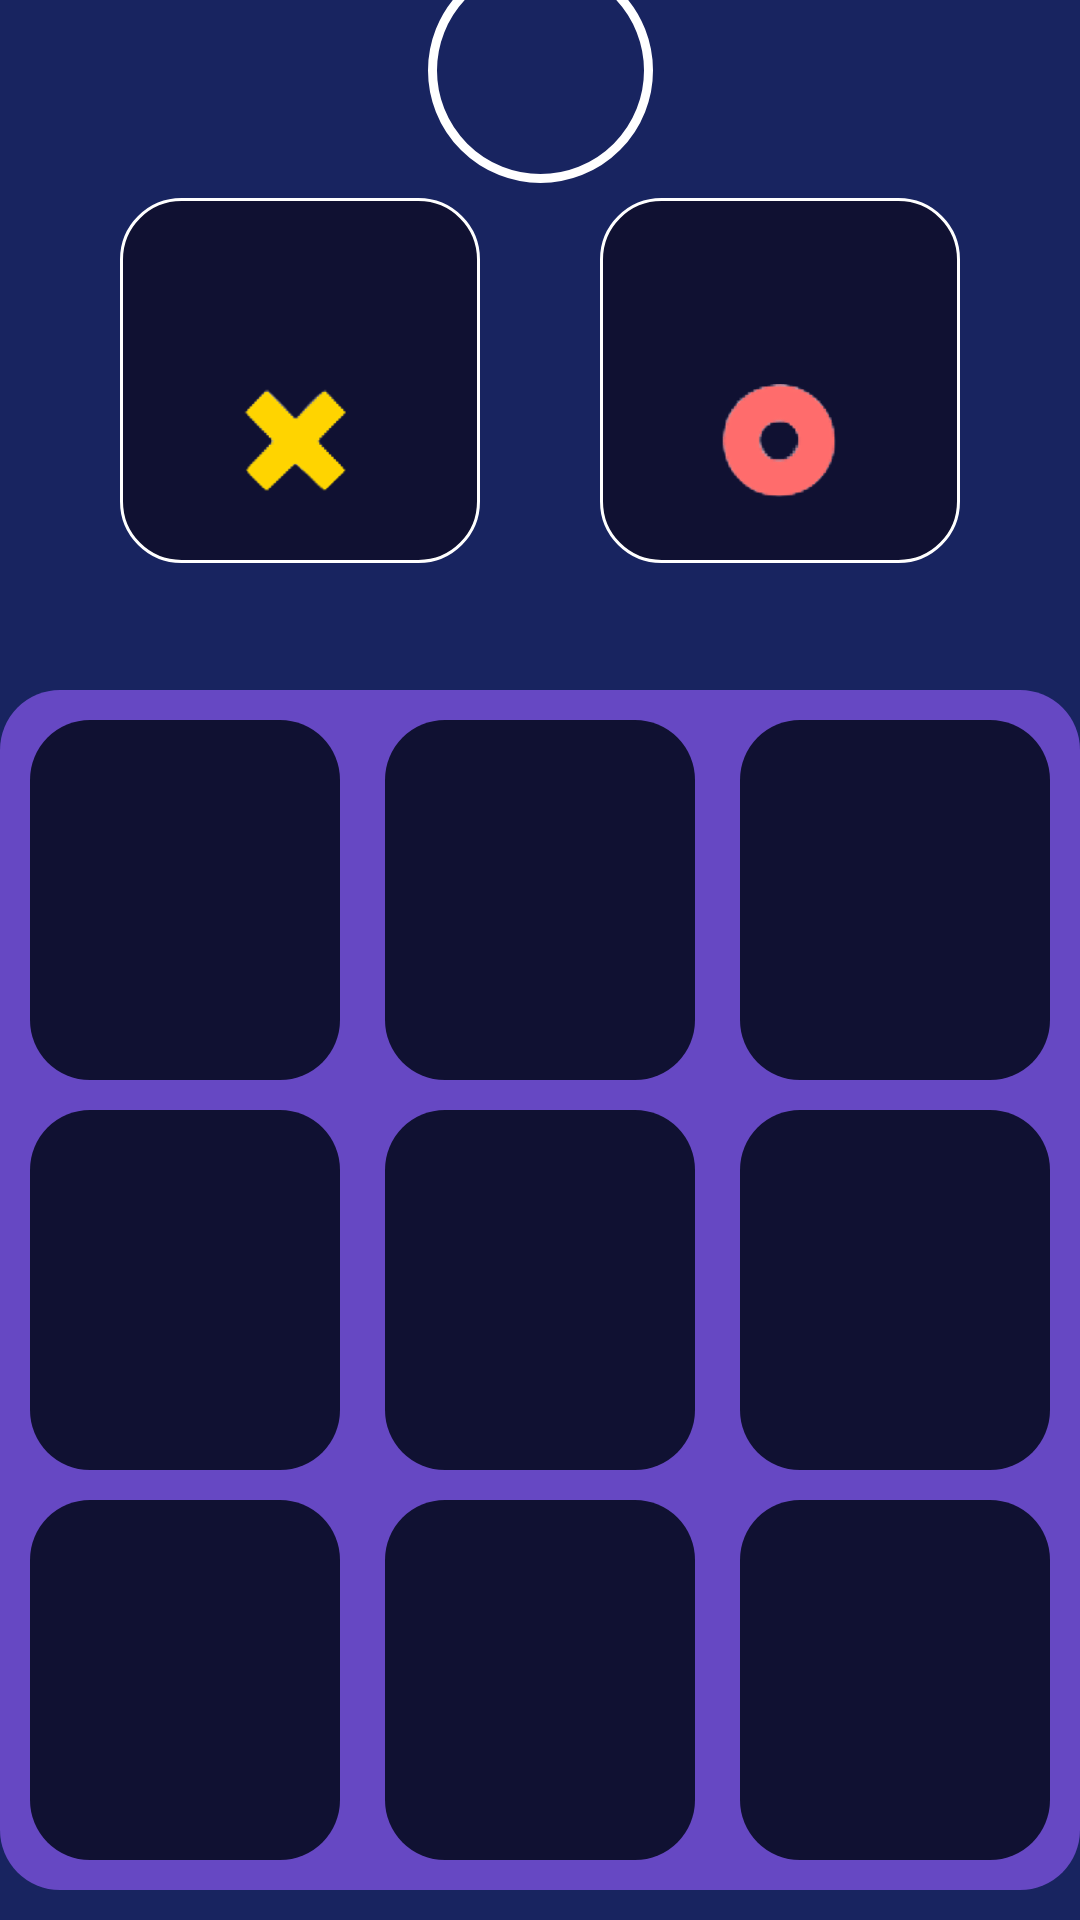

Icons on this 1080 × 1920 Android screen, each with its box as [x1,y1,x2,y2]:
simbolo: [722,384,835,497], [245,390,346,491]
